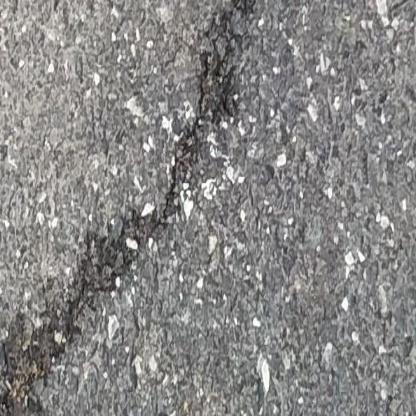Cracks: (0, 242, 122, 416), (157, 55, 215, 227), (235, 0, 255, 4)
